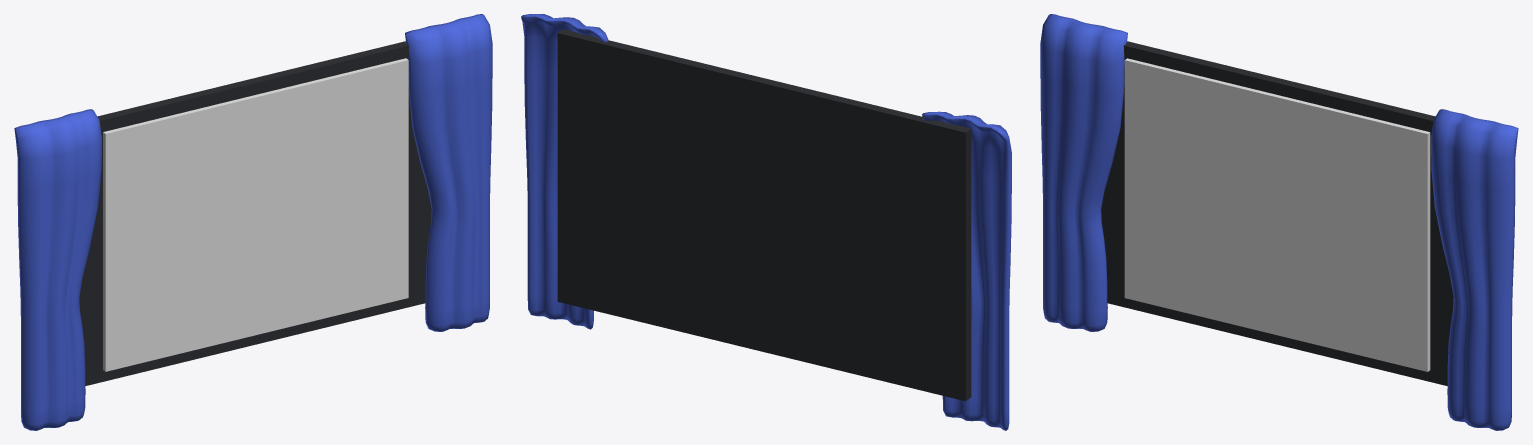
The model's file is Screen_Lv2_1.fbx.
3 views of the same model, side by side, from view 1: azimuth 30°, elevation 25°; view 2: azimuth 150°, elevation 25°; view 3: azimuth 330°, elevation 25° (orthographic). The views are drawn at different scales.
Parts seen in each view (by area): view 1: Screen_Lv3; view 2: Screen_Lv3; view 3: Screen_Lv3.
Part boxes in pixels (left/top/right/bottom): Screen_Lv3: left=14, top=14, right=492, bottom=430; Screen_Lv3: left=521, top=14, right=1011, bottom=430; Screen_Lv3: left=1040, top=14, right=1518, bottom=430.
Size of the model in its own units: 10.12 by 6.14 by 0.5901.
